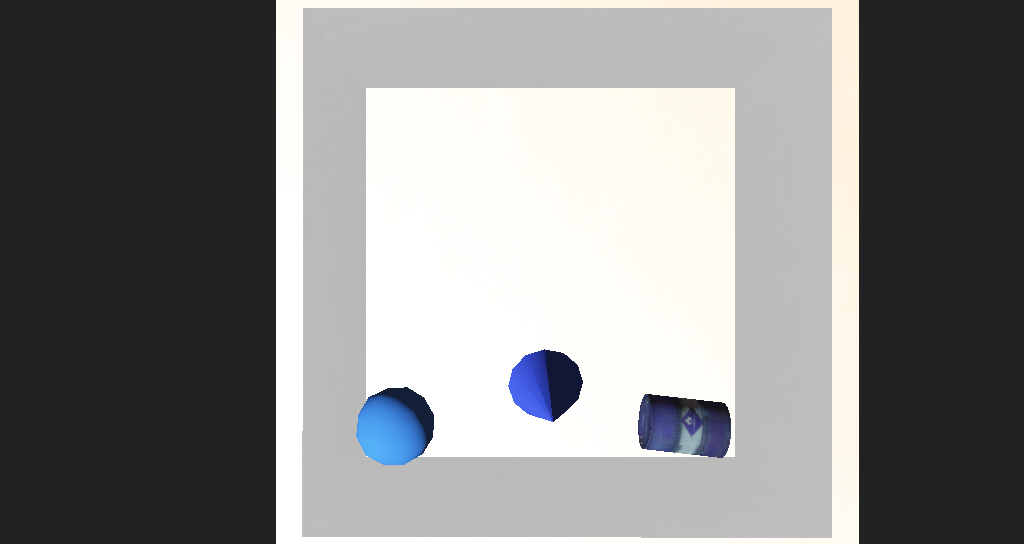cone: (576, 336, 650, 379)
cylinder: (465, 310, 532, 377)
sphere: (344, 336, 411, 379)
